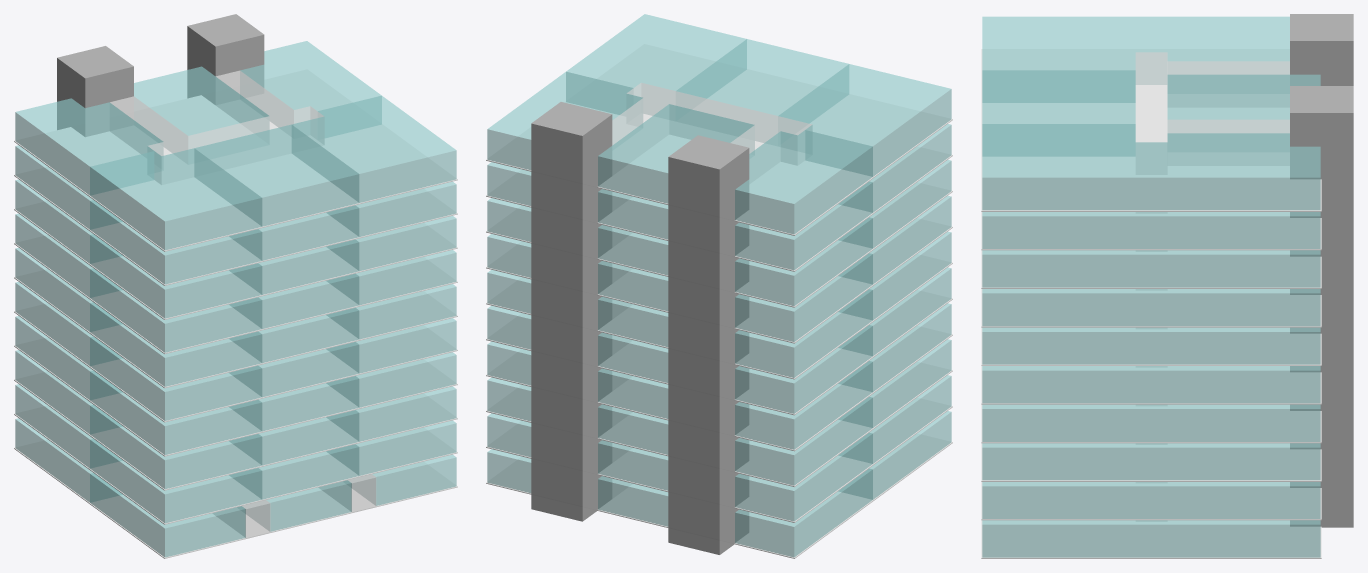
File: MultiResidence.glb
3 views of the same model, side by side, from view 1: azimuth 30°, elevation 25°; view 2: azimuth 150°, elevation 25°; view 3: azimuth 270°, elevation 25° (orthographic). The views are drawn at different scales.
Parts seen in each view (by area): view 1: 12094a32-34ca-4502-85fe-d3a66a379dcd_mesh, e3708789-01c0-45cc-a30e-062c2b5e77a1_mesh, 4d4253da-8cd8-4393-a767-b94ddc0582d8_mesh, a9baf607-7756-4153-a5e0-21f0e0ead710_mesh, efaa7e80-0449-4818-b92e-72325d0e849e_mesh, 2f813a5a-7311-4a28-b9ec-8248b821c76c_mesh, 44b6479c-1e8b-4760-9acb-3495d8f8cfbc_mesh, 60e71107-1ef4-4813-8381-a9a49234c854_mesh, a2ee0b87-4cd8-4bf8-9dfd-cbc15cf74a8c_mesh, 787b2f11-ac4b-4f90-b927-e01af67999d1_mesh, 243f7626-e207-4f62-933d-2c1f0b2f6e99_mesh, 9099fed5-eafa-4436-9d61-c8312ed709e7_mesh (+46 smaller); view 2: 12094a32-34ca-4502-85fe-d3a66a379dcd_mesh, 42871a5d-9686-4505-bf8f-6e8c77ce4268_mesh, 38aff595-fc06-4f45-9cd6-87507e1c03ff_mesh, 431b13fe-4b99-4a58-8bc8-407e3be1c426_mesh, 573ce4d4-fd6a-4640-b89c-fe62ebf72ba5_mesh, 243f7626-e207-4f62-933d-2c1f0b2f6e99_mesh, 9099fed5-eafa-4436-9d61-c8312ed709e7_mesh, 8d6c603b-5d24-4d6f-bd12-3e6de379887e_mesh, 60e71107-1ef4-4813-8381-a9a49234c854_mesh, a2ee0b87-4cd8-4bf8-9dfd-cbc15cf74a8c_mesh, 44b6479c-1e8b-4760-9acb-3495d8f8cfbc_mesh, 2f813a5a-7311-4a28-b9ec-8248b821c76c_mesh (+45 smaller); view 3: 12094a32-34ca-4502-85fe-d3a66a379dcd_mesh, 38aff595-fc06-4f45-9cd6-87507e1c03ff_mesh, 573ce4d4-fd6a-4640-b89c-fe62ebf72ba5_mesh, 28a09243-81c6-4a0f-9c7a-c89d8d3b4ef1_mesh, 243f7626-e207-4f62-933d-2c1f0b2f6e99_mesh, 9099fed5-eafa-4436-9d61-c8312ed709e7_mesh, 8d6c603b-5d24-4d6f-bd12-3e6de379887e_mesh, efaa7e80-0449-4818-b92e-72325d0e849e_mesh, 4d4253da-8cd8-4393-a767-b94ddc0582d8_mesh, 2f813a5a-7311-4a28-b9ec-8248b821c76c_mesh, 60e71107-1ef4-4813-8381-a9a49234c854_mesh, 44b6479c-1e8b-4760-9acb-3495d8f8cfbc_mesh (+27 smaller).
Part boxes in pixels (x1,y1,x2,y2): 12094a32-34ca-4502-85fe-d3a66a379dcd_mesh: [14, 69, 457, 251]; e3708789-01c0-45cc-a30e-062c2b5e77a1_mesh: [14, 269, 457, 388]; 4d4253da-8cd8-4393-a767-b94ddc0582d8_mesh: [14, 406, 457, 524]; a9baf607-7756-4153-a5e0-21f0e0ead710_mesh: [14, 371, 457, 490]; efaa7e80-0449-4818-b92e-72325d0e849e_mesh: [14, 337, 457, 456]; 2f813a5a-7311-4a28-b9ec-8248b821c76c_mesh: [14, 303, 457, 422]; 44b6479c-1e8b-4760-9acb-3495d8f8cfbc_mesh: [14, 167, 457, 285]; 60e71107-1ef4-4813-8381-a9a49234c854_mesh: [14, 235, 457, 354]; a2ee0b87-4cd8-4bf8-9dfd-cbc15cf74a8c_mesh: [14, 201, 457, 319]; 787b2f11-ac4b-4f90-b927-e01af67999d1_mesh: [14, 440, 457, 558]; 243f7626-e207-4f62-933d-2c1f0b2f6e99_mesh: [90, 148, 262, 250]; 9099fed5-eafa-4436-9d61-c8312ed709e7_mesh: [292, 95, 456, 202]; 12094a32-34ca-4502-85fe-d3a66a379dcd_mesh: [486, 44, 952, 235]; 42871a5d-9686-4505-bf8f-6e8c77ce4268_mesh: [668, 135, 749, 554]; 38aff595-fc06-4f45-9cd6-87507e1c03ff_mesh: [531, 102, 612, 521]; 431b13fe-4b99-4a58-8bc8-407e3be1c426_mesh: [668, 135, 748, 554]; 573ce4d4-fd6a-4640-b89c-fe62ebf72ba5_mesh: [531, 102, 611, 521]; 243f7626-e207-4f62-933d-2c1f0b2f6e99_mesh: [778, 64, 951, 176]; 9099fed5-eafa-4436-9d61-c8312ed709e7_mesh: [566, 14, 746, 115]; 8d6c603b-5d24-4d6f-bd12-3e6de379887e_mesh: [676, 39, 848, 142]; 60e71107-1ef4-4813-8381-a9a49234c854_mesh: [486, 218, 952, 343]; a2ee0b87-4cd8-4bf8-9dfd-cbc15cf74a8c_mesh: [486, 182, 952, 307]; 44b6479c-1e8b-4760-9acb-3495d8f8cfbc_mesh: [486, 146, 952, 271]; 2f813a5a-7311-4a28-b9ec-8248b821c76c_mesh: [486, 290, 952, 415]; 12094a32-34ca-4502-85fe-d3a66a379dcd_mesh: [981, 49, 1321, 211]; 38aff595-fc06-4f45-9cd6-87507e1c03ff_mesh: [1290, 86, 1353, 527]; 573ce4d4-fd6a-4640-b89c-fe62ebf72ba5_mesh: [1290, 86, 1353, 527]; 28a09243-81c6-4a0f-9c7a-c89d8d3b4ef1_mesh: [1135, 52, 1289, 174]; 243f7626-e207-4f62-933d-2c1f0b2f6e99_mesh: [982, 16, 1151, 102]; 9099fed5-eafa-4436-9d61-c8312ed709e7_mesh: [982, 124, 1151, 210]; 8d6c603b-5d24-4d6f-bd12-3e6de379887e_mesh: [982, 70, 1135, 156]; efaa7e80-0449-4818-b92e-72325d0e849e_mesh: [981, 404, 1321, 443]; 4d4253da-8cd8-4393-a767-b94ddc0582d8_mesh: [981, 482, 1321, 520]; 2f813a5a-7311-4a28-b9ec-8248b821c76c_mesh: [981, 366, 1321, 404]; 60e71107-1ef4-4813-8381-a9a49234c854_mesh: [981, 289, 1321, 327]; 44b6479c-1e8b-4760-9acb-3495d8f8cfbc_mesh: [981, 212, 1321, 250].
Size of what is drawn, in the model's own units: 36 by 43 by 35.
